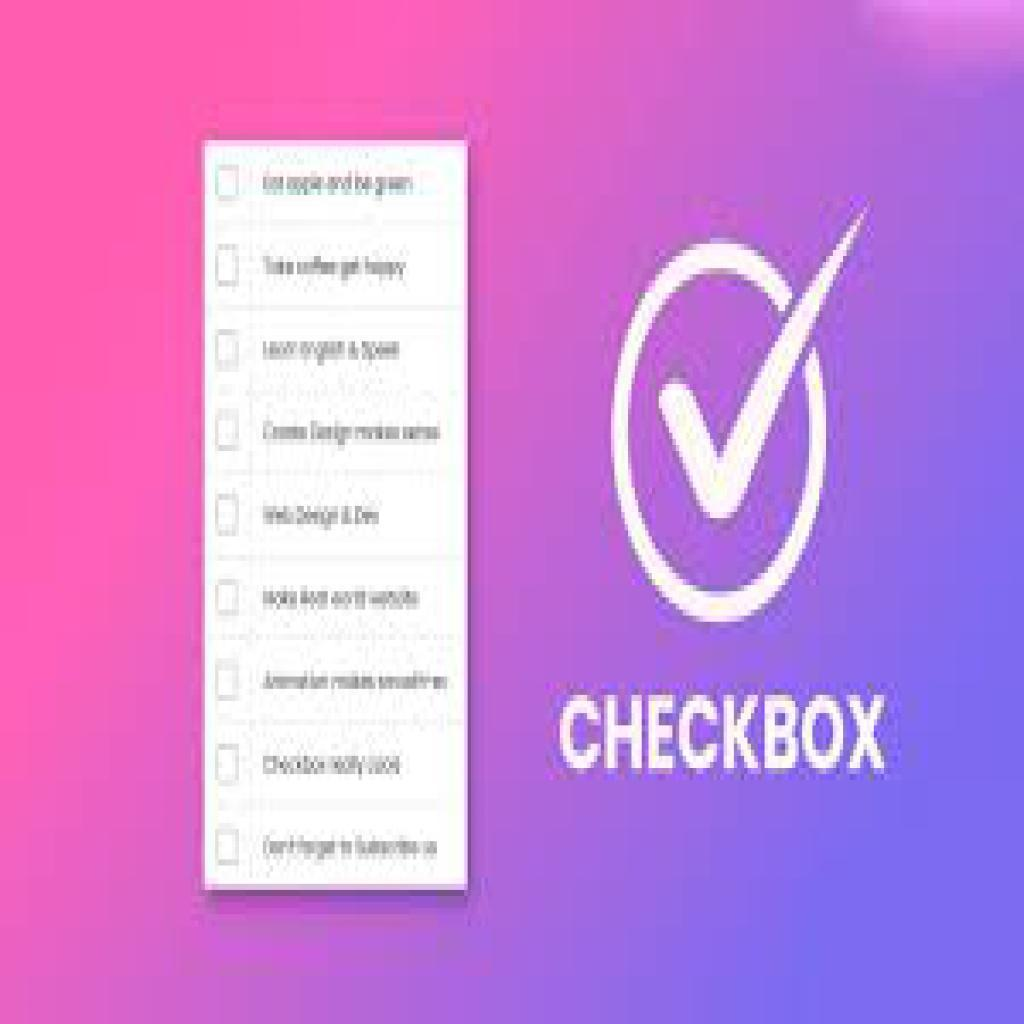checkbox: (214, 658, 245, 706), (213, 492, 242, 543), (215, 407, 245, 455), (215, 244, 244, 292), (214, 327, 242, 375), (214, 578, 243, 620), (216, 165, 243, 204), (217, 744, 241, 787), (217, 827, 239, 867)
label: (261, 832, 445, 862), (263, 668, 449, 695), (259, 585, 423, 614), (264, 424, 448, 449), (262, 172, 418, 200), (257, 502, 391, 533), (262, 256, 408, 283), (260, 338, 411, 364), (261, 754, 403, 780)
